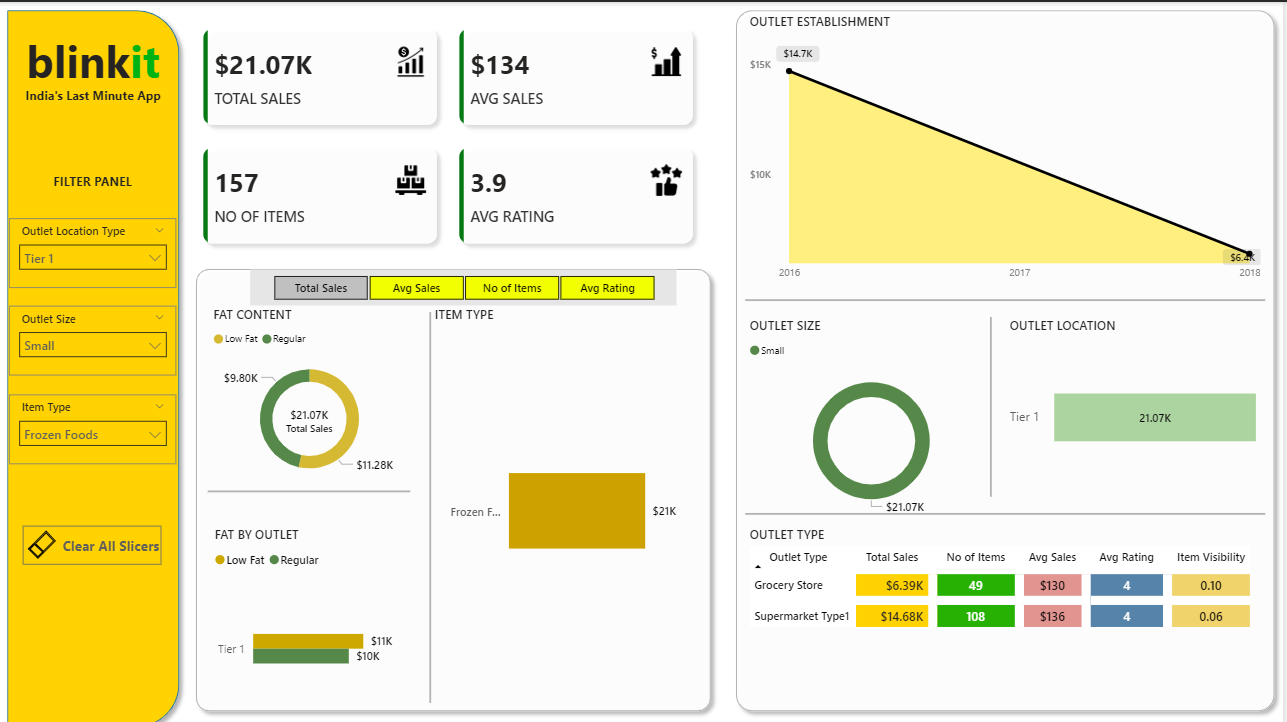

Layout of this report page (visuals, bound fields, positions):
{"tool":"powerbi","page":{"name":"Page 1","canvas":[1400,800],"ordinal":0},"visuals":[{"type":"shape","box":[0,0,205.6,800],"z":0},{"type":"textbox","box":[22.5,25.5,159.1,93.1],"z":1000},{"type":"textbox","box":[0,87.1,205.6,31.5],"z":2000},{"type":"cardVisual","fields":{"Data":["BlinkIT Grocery Data.Total Sales","BlinkIT Grocery Data.Avg Sales","BlinkIT Grocery Data.No of Items","BlinkIT Grocery Data.Avg Rating"]},"box":[205.9,12.3,569.9,269.9],"z":3000},{"type":"shape","box":[205.9,282.2,579.4,500.3],"z":4000},{"type":"donutChart","title":"FAT CONTENT","fields":{"Y":["BlinkIT Grocery Data.Total Sales"],"Category":["BlinkIT Grocery Data.Item Fat Content"]},"box":[229,331.3,219.5,201.8],"z":5000},{"type":"slicer","fields":{"Values":["Metrics.Metrics"]},"box":[274,291.8,464.9,39.5],"z":6000},{"type":"cardVisual","fields":{"Data":["BlinkIT Grocery Data.Total Sales"]},"box":[295.8,428.1,85.9,57.3],"z":7000},{"type":"clusteredBarChart","title":"FAT BY OUTLET","fields":{"Y":["BlinkIT Grocery Data.Total Sales"],"Category":["BlinkIT Grocery Data.Outlet Location Type"],"Series":["BlinkIT Grocery Data.Item Fat Content"]},"box":[230.4,571.2,218.1,216.8],"z":8000},{"type":"shape","box":[227.7,515.3,220.9,36.8],"z":9000},{"type":"shape","box":[458.1,338.1,24.5,426.7],"z":10000},{"type":"barChart","title":"ITEM TYPE","fields":{"Y":["BlinkIT Grocery Data.Total Sales"],"Category":["BlinkIT Grocery Data.Item Type"]},"box":[470.4,331.3,291.8,426.7],"z":11000},{"type":"shape","box":[794.8,0,605.3,782.6],"z":12000},{"type":"lineChart","title":"OUTLET ESTABLISHMENT","fields":{"Y":["BlinkIT Grocery Data.Total Sales"],"Category":["BlinkIT Grocery Data.Outlet Establishment Year"]},"box":[813.9,12.3,567.1,299.9],"z":13000},{"type":"shape","box":[813.9,306.8,567.1,36.8],"z":14000},{"type":"donutChart","title":"OUTLET SIZE","fields":{"Category":["BlinkIT Grocery Data.Outlet Size"],"Y":["BlinkIT Grocery Data.Total Sales"]},"box":[813.9,343.6,275.4,225],"z":15000},{"type":"shape","box":[1074.3,343.6,15,196.3],"z":16000},{"type":"funnel","title":"OUTLET LOCATION","fields":{"Y":["Sum(BlinkIT Grocery Data.Sales)"],"Category":["BlinkIT Grocery Data.Outlet Location Type"]},"box":[1097.5,343.6,283.6,201.8],"z":17000},{"type":"shape","box":[813.9,539.9,567.1,36.8],"z":18000},{"type":"pivotTable","title":"OUTLET TYPE","fields":{"Rows":["BlinkIT Grocery Data.Outlet Type"],"Values":["BlinkIT Grocery Data.Total Sales","BlinkIT Grocery Data.No of Items","BlinkIT Grocery Data.Avg Sales","BlinkIT Grocery Data.Avg Rating","Avg(BlinkIT Grocery Data.Item Visibility)"]},"box":[813.9,571.2,567.1,195],"z":19000},{"type":"slicer","fields":{"Values":["BlinkIT Grocery Data.Outlet Location Type"]},"box":[10.9,235.9,182.7,76.3],"z":20000},{"type":"slicer","fields":{"Values":["BlinkIT Grocery Data.Outlet Size"]},"box":[10.9,331.3,182.7,76.3],"z":21000},{"type":"slicer","fields":{"Values":["BlinkIT Grocery Data.Item Type"]},"box":[10.9,428.1,182.7,76.3],"z":22000},{"type":"textbox","box":[10.9,181.3,182.7,43.6],"z":24000},{"type":"actionButton","box":[25.9,571.2,151.3,42.3],"z":24001}]}

Visuals, with their boxes in screenshot pixels (x1, y1, x2, y2), scaled from the page's 1400x800 canvas onto the 1287x722 screenshot:
shape: Rect(0, 0, 189, 721)
textbox: Rect(21, 23, 167, 107)
textbox: Rect(0, 79, 189, 107)
cardVisual - BlinkIT Grocery Data.Total Sales x BlinkIT Grocery Data.Avg Sales: Rect(189, 11, 713, 255)
shape: Rect(189, 255, 722, 706)
"FAT CONTENT" donutChart: Rect(211, 299, 412, 481)
slicer - Metrics.Metrics: Rect(252, 263, 679, 299)
cardVisual - BlinkIT Grocery Data.Total Sales: Rect(272, 386, 351, 438)
"FAT BY OUTLET" clusteredBarChart: Rect(212, 516, 412, 711)
shape: Rect(209, 465, 412, 498)
shape: Rect(421, 305, 444, 690)
"ITEM TYPE" barChart: Rect(432, 299, 701, 684)
shape: Rect(731, 0, 1286, 706)
"OUTLET ESTABLISHMENT" lineChart: Rect(748, 11, 1270, 282)
shape: Rect(748, 277, 1270, 310)
"OUTLET SIZE" donutChart: Rect(748, 310, 1001, 513)
shape: Rect(988, 310, 1001, 487)
"OUTLET LOCATION" funnel: Rect(1009, 310, 1270, 492)
shape: Rect(748, 487, 1270, 520)
"OUTLET TYPE" pivotTable: Rect(748, 516, 1270, 691)
slicer - BlinkIT Grocery Data.Outlet Location Type: Rect(10, 213, 178, 282)
slicer - BlinkIT Grocery Data.Outlet Size: Rect(10, 299, 178, 368)
slicer - BlinkIT Grocery Data.Item Type: Rect(10, 386, 178, 455)
textbox: Rect(10, 164, 178, 203)
actionButton: Rect(24, 516, 163, 554)
